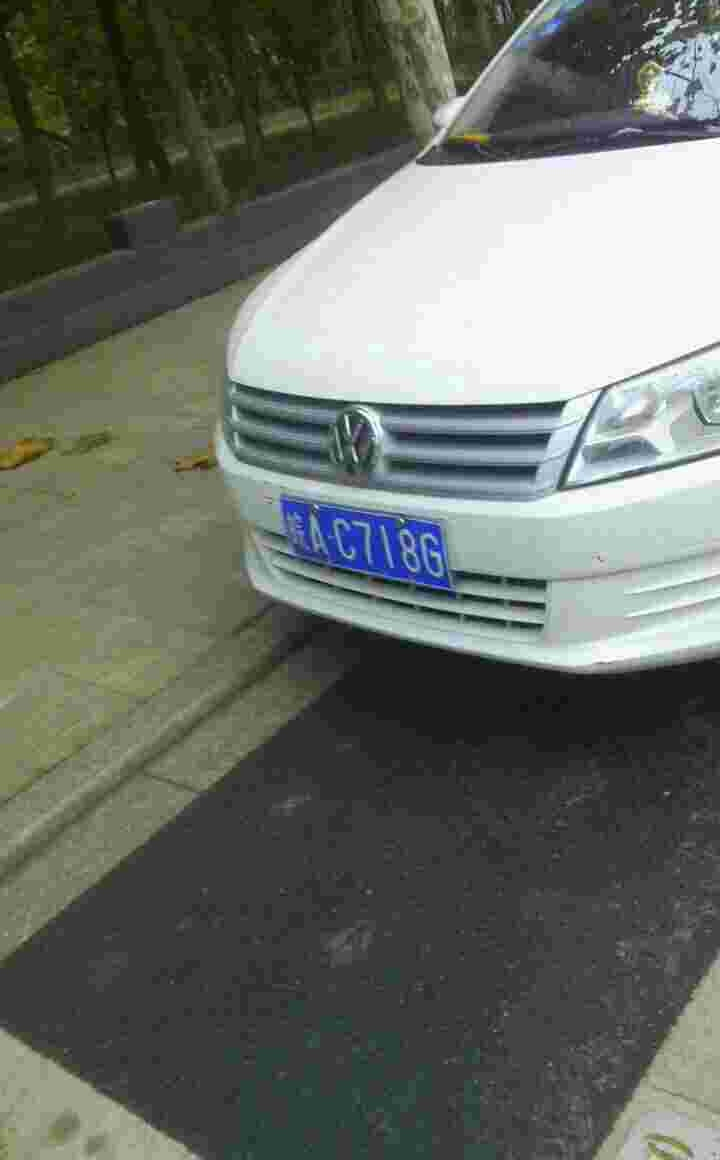plate: (274, 490, 459, 594)
